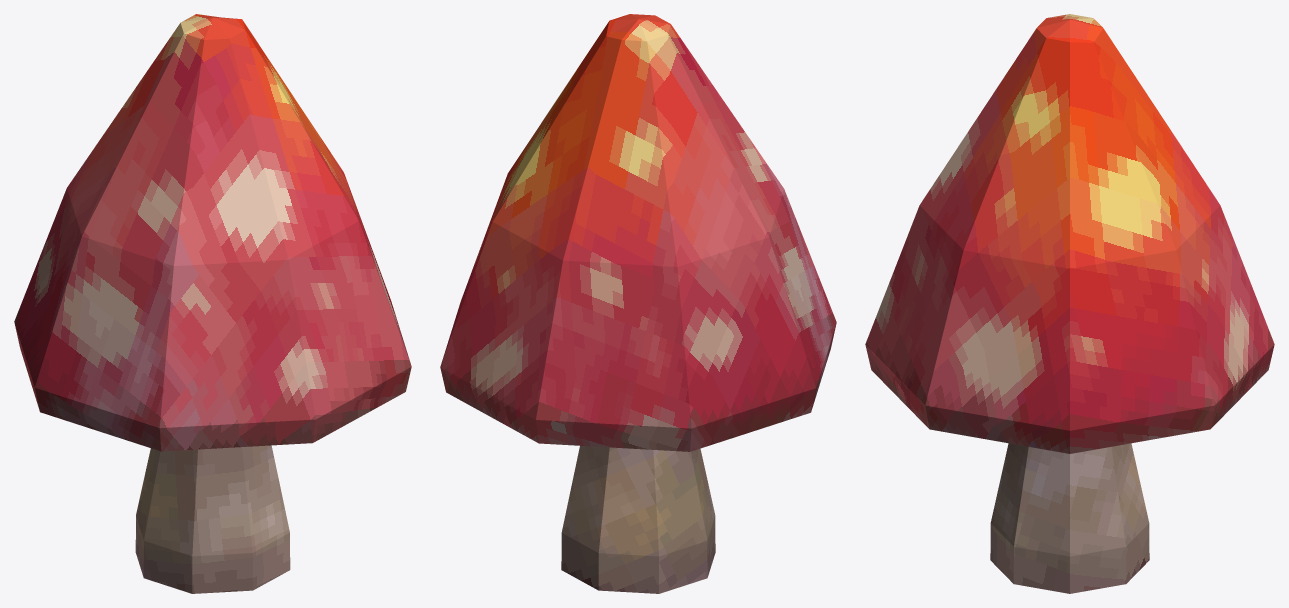
The model's file is item_fungi_red.glb.
3 renders of one model, left to right at view 1: azimuth 30°, elevation 25°; view 2: azimuth 150°, elevation 25°; view 3: azimuth 270°, elevation 25°, orthographic.
Parts seen in each view (by area): view 1: Mushroom_Bigg; view 2: Mushroom_Bigg; view 3: Mushroom_Bigg.
Part boxes in pixels (left/top/right/bottom): Mushroom_Bigg: left=14, top=14, right=411, bottom=593; Mushroom_Bigg: left=440, top=14, right=836, bottom=593; Mushroom_Bigg: left=865, top=14, right=1274, bottom=593.
Bounding box in the file's own units: 0.1151 × 0.1712 × 0.1151.
Materials: 1 (1 with a texture image).
